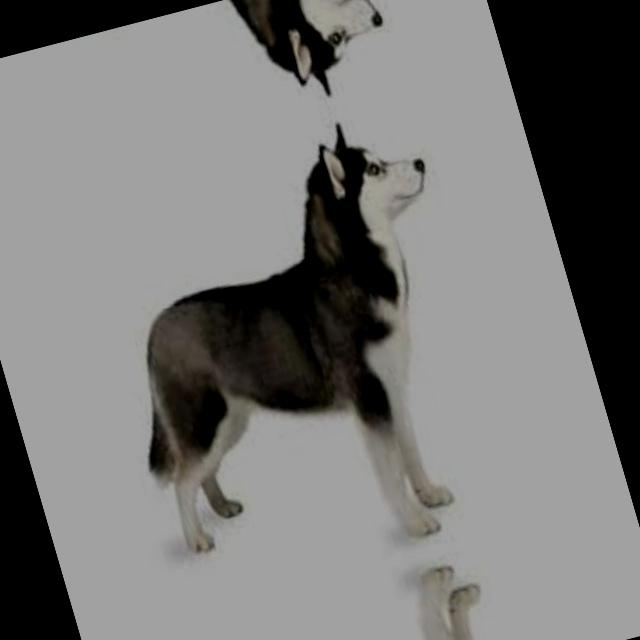dog: (49, 113, 516, 592), (6, 0, 392, 163), (177, 556, 562, 640)
